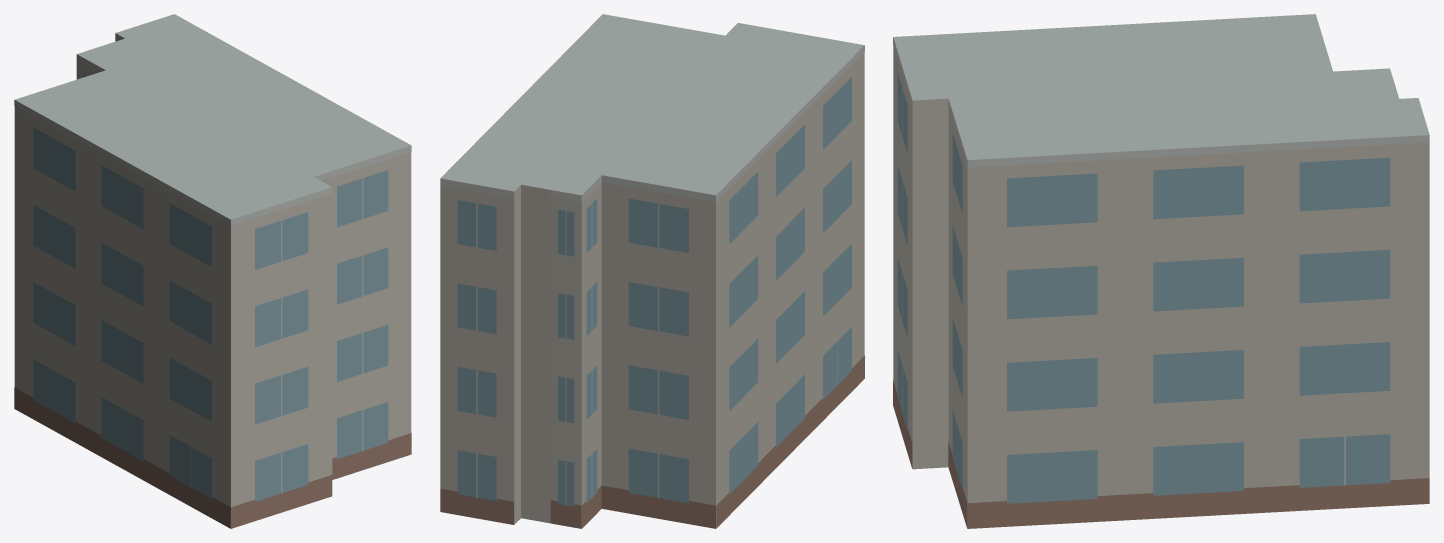
Rendered from residential-fdcc1d5e-7b1f-434c-8983-7a5897dac044.glb.
3 renders of one model, left to right at view 1: azimuth 30°, elevation 25°; view 2: azimuth 150°, elevation 25°; view 3: azimuth 270°, elevation 25°, orthographic. The views are drawn at different scales.
Visible parts, largest first — view 1: residential-fdcc1d5e-7b1f-434c-8983-7a5897dac044.tmp; view 2: residential-fdcc1d5e-7b1f-434c-8983-7a5897dac044.tmp; view 3: residential-fdcc1d5e-7b1f-434c-8983-7a5897dac044.tmp.
Part boxes in pixels (bbox=[...]): residential-fdcc1d5e-7b1f-434c-8983-7a5897dac044.tmp: bbox=[14, 14, 411, 528]; residential-fdcc1d5e-7b1f-434c-8983-7a5897dac044.tmp: bbox=[440, 14, 864, 528]; residential-fdcc1d5e-7b1f-434c-8983-7a5897dac044.tmp: bbox=[893, 14, 1429, 528].
Bounding box in the file's own units: 10.38 × 12.2 × 16.1.
